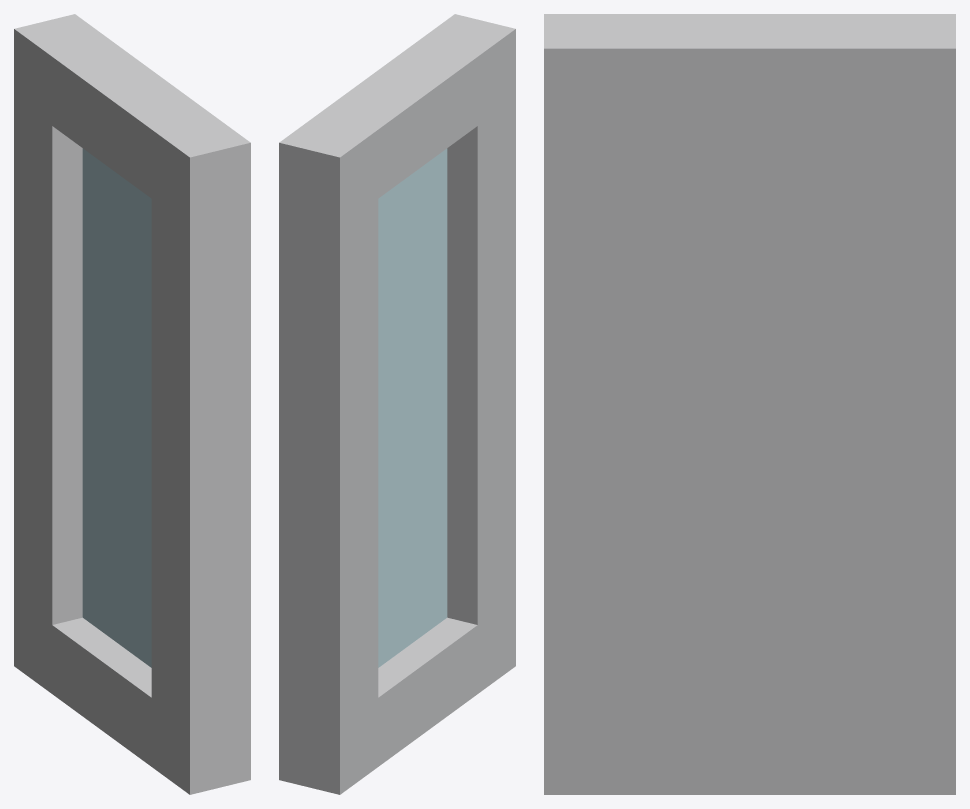
File: modularBuildings_077.gltf
3 renders of one model, left to right at view 1: azimuth 30°, elevation 25°; view 2: azimuth 150°, elevation 25°; view 3: azimuth 270°, elevation 25°, orthographic. The views are drawn at different scales.
Visible parts, largest first — view 1: Mesh1 Group1 Model; view 2: Mesh1 Group1 Model; view 3: Mesh1 Group1 Model.
Boxes of the visible parts, x1,y1,x2,y2 form: Mesh1 Group1 Model: (14,14,250,794); Mesh1 Group1 Model: (279,14,515,794); Mesh1 Group1 Model: (544,14,955,794).
Bounding box in the file's own units: 0.05 × 0.5 × 0.25.
